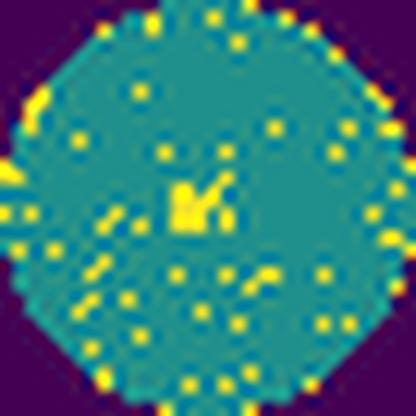Center: (170, 170, 240, 238)
